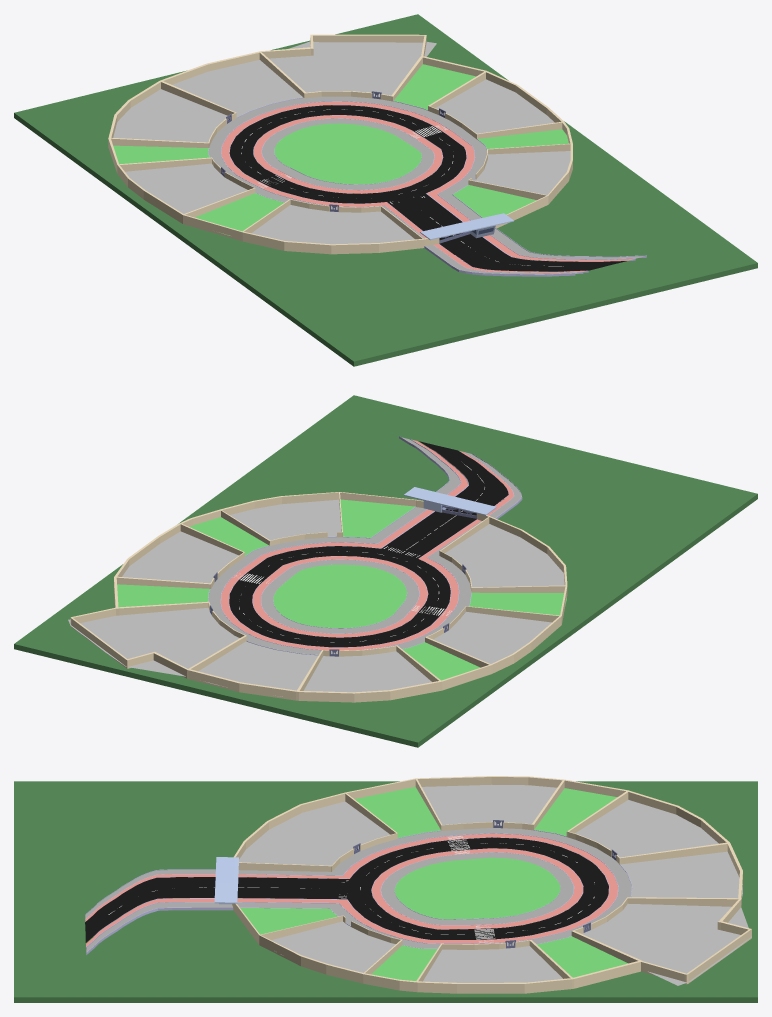
Rendered from Neighborhood 1.fbx.
The picture shows the model from 3 angles, top to bottom: view 1: azimuth 30°, elevation 25°; view 2: azimuth 150°, elevation 25°; view 3: azimuth 270°, elevation 25°; orthographic projection. The views are drawn at different scales.
Visible parts, largest first — view 1: estetico, Pvimento, AVerde, Asfalto, Passeio, Ciclovia, Paralelepipeto, Guarita, C.Wall.031, C.Wall.037, C.Wall.052, C.Wall.065 (+3 smaller); view 2: estetico, Pvimento, AVerde, Asfalto, Passeio, Ciclovia, Paralelepipeto, Guarita, C.Wall.023, C.Wall.017, C.Wall.047, C.Wall.053 (+3 smaller); view 3: estetico, Pvimento, AVerde, Asfalto, Passeio, Ciclovia, Paralelepipeto, Guarita, C.Wall.043, C.Wall.028, C.Wall.016, C.Wall.014 (+18 smaller).
Boxes of the visible parts, left/top/right/bottom form: estetico: left=14, top=14, right=757, bottom=366; Pvimento: left=113, top=41, right=570, bottom=244; AVerde: left=113, top=64, right=568, bottom=235; Asfalto: left=229, top=105, right=626, bottom=271; Passeio: left=208, top=96, right=644, bottom=274; Ciclovia: left=221, top=101, right=634, bottom=272; Paralelepipeto: left=208, top=97, right=646, bottom=276; Guarita: left=420, top=213, right=513, bottom=240; C.Wall.031: left=313, top=34, right=424, bottom=42; C.Wall.037: left=111, top=137, right=208, bottom=147; C.Wall.052: left=119, top=157, right=211, bottom=171; C.Wall.065: left=183, top=214, right=241, bottom=240; estetico: left=14, top=395, right=757, bottom=747; Pvimento: left=68, top=499, right=564, bottom=696; AVerde: left=117, top=499, right=566, bottom=680; Asfalto: left=229, top=441, right=508, bottom=647; Passeio: left=208, top=437, right=521, bottom=654; Ciclovia: left=221, top=439, right=513, bottom=650; Paralelepipeto: left=208, top=436, right=522, bottom=655; Guarita: left=404, top=487, right=496, bottom=515; C.Wall.023: left=119, top=601, right=208, bottom=615; C.Wall.017: left=116, top=576, right=210, bottom=588; C.Wall.047: left=466, top=606, right=559, bottom=622; C.Wall.053: left=472, top=585, right=565, bottom=592; estetico: left=14, top=781, right=757, bottom=1002; Pvimento: left=239, top=784, right=751, bottom=985; AVerde: left=240, top=787, right=628, bottom=980; Asfalto: left=85, top=837, right=608, bottom=942; Passeio: left=85, top=828, right=631, bottom=952; Ciclovia: left=85, top=833, right=617, bottom=946; Paralelepipeto: left=85, top=830, right=632, bottom=954; Guarita: left=214, top=857, right=238, bottom=904; C.Wall.043: left=620, top=842, right=727, bottom=864; C.Wall.028: left=627, top=897, right=738, bottom=906; C.Wall.016: left=573, top=961, right=640, bottom=988; C.Wall.014: left=457, top=982, right=524, bottom=993.
Bounding box in the file's own units: 18719 × 825 × 27269.
